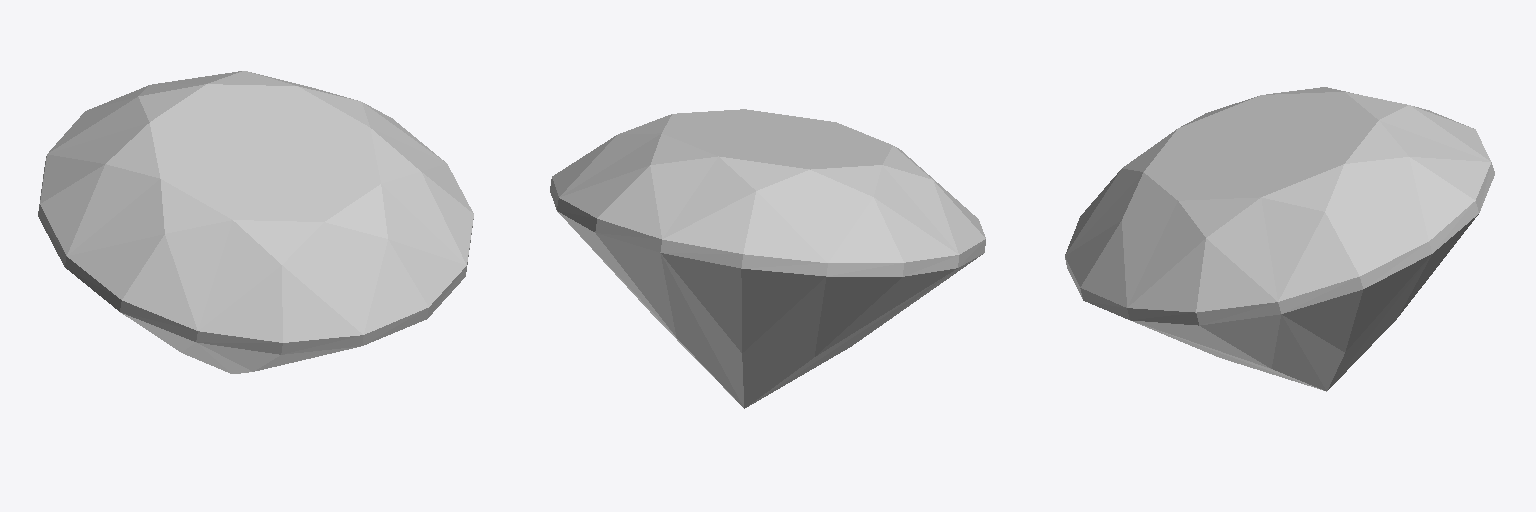
The model's file is All gems.obj.
3 views of the same model, side by side, from view 1: azimuth 30°, elevation 25°; view 2: azimuth 150°, elevation 25°; view 3: azimuth 270°, elevation 25° (orthographic).
Visible parts, largest first — view 1: Gemstone_01.004; view 2: Gemstone_01.004; view 3: Gemstone_01.004.
Part boxes in pixels (bbox=[...]): Gemstone_01.004: bbox=[38, 71, 473, 373]; Gemstone_01.004: bbox=[550, 109, 985, 408]; Gemstone_01.004: bbox=[1065, 87, 1494, 391].
Size of the model in its own units: 0.9373 by 0.6371 by 0.9162.